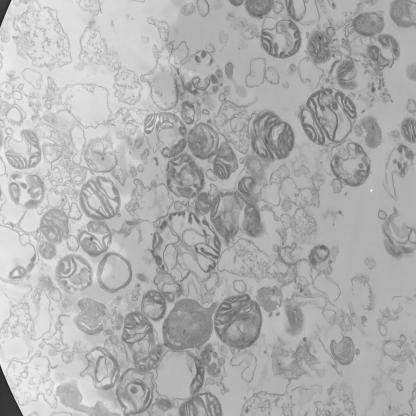mitochondria: (300, 90, 356, 145), (212, 293, 264, 348), (122, 311, 161, 372), (251, 110, 294, 161), (144, 112, 188, 157), (116, 366, 155, 416), (328, 141, 371, 186), (79, 175, 122, 218), (166, 156, 205, 199), (262, 17, 302, 57), (3, 128, 42, 168), (54, 255, 94, 292), (76, 219, 113, 255), (8, 172, 45, 208), (187, 121, 220, 158), (40, 207, 70, 245), (213, 145, 238, 181), (142, 290, 168, 321), (179, 101, 201, 123)
